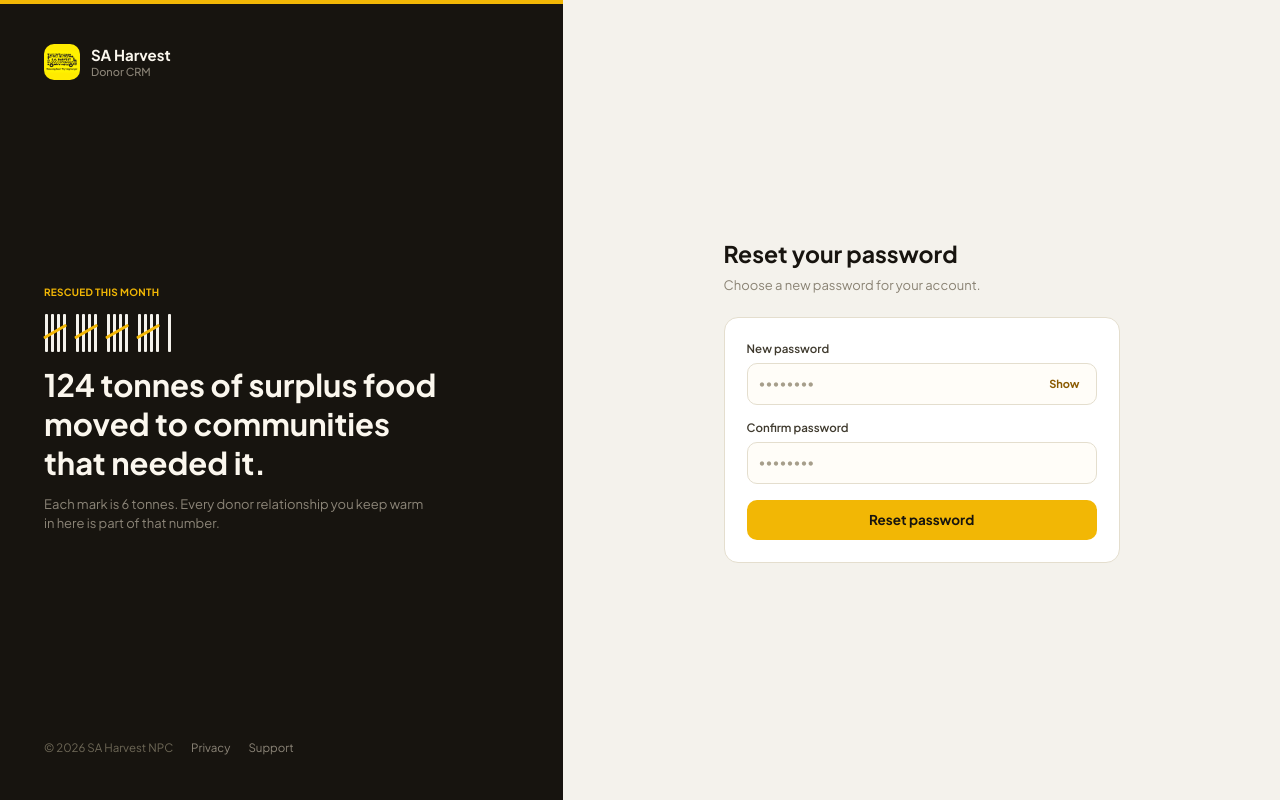
Test: ResetPasswordPage › Weak password → shows password rule validation error
Type "weakpass" into the 1st password field with placeholder "••••••••" at (895, 384), box [748,364,1043,404]
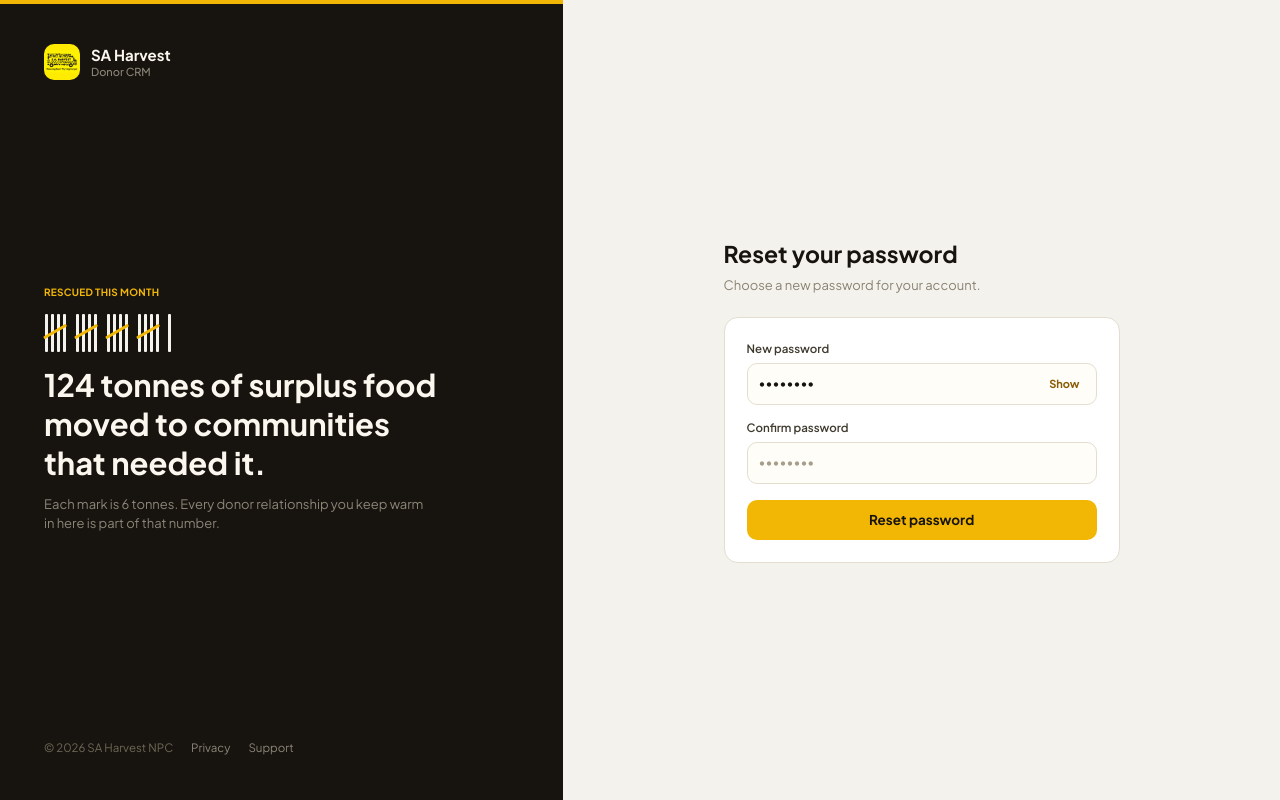
Type "weakpass" into the password field with placeholder "••••••••" at (922, 463), box [747,442,1097,484]
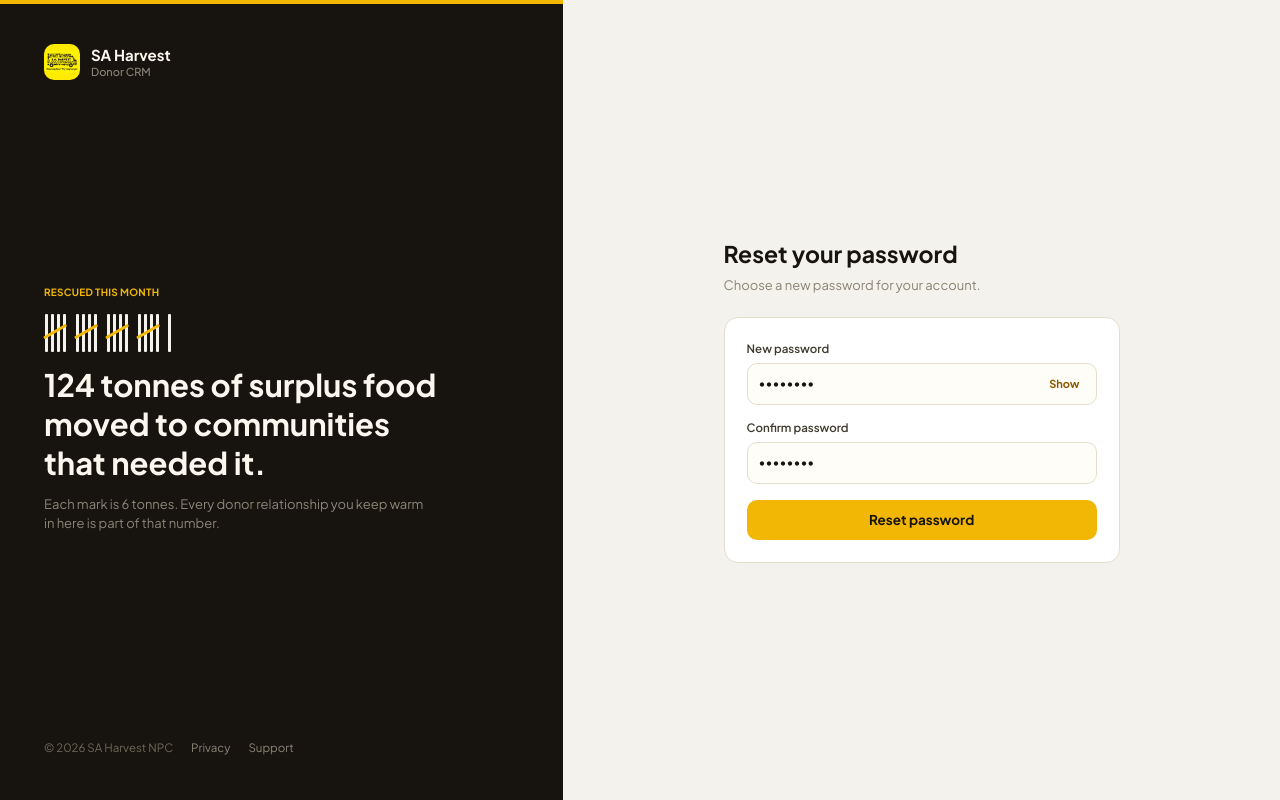
Click the button "Reset password" at (922, 520), box [747,500,1097,540]
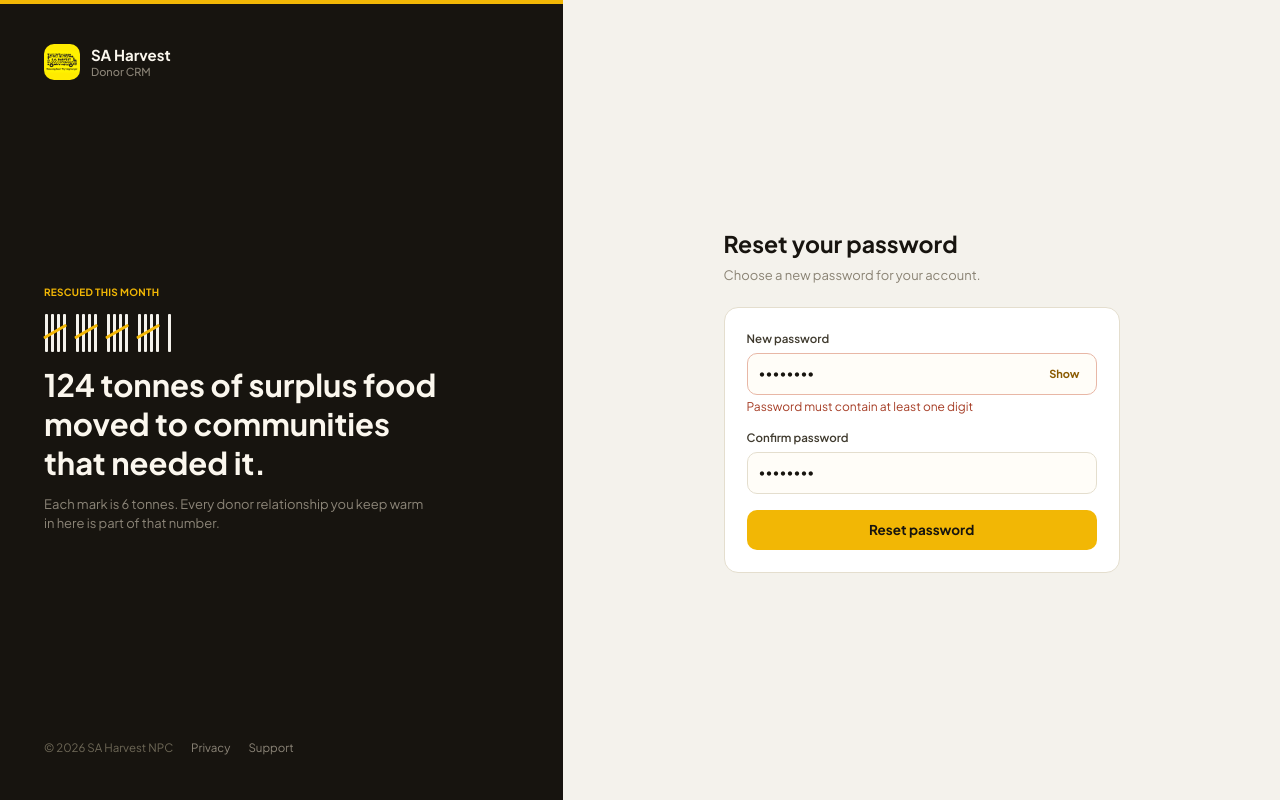
Check: the text "Password must contain at least one digit" is shown, box [747,399,973,414]
